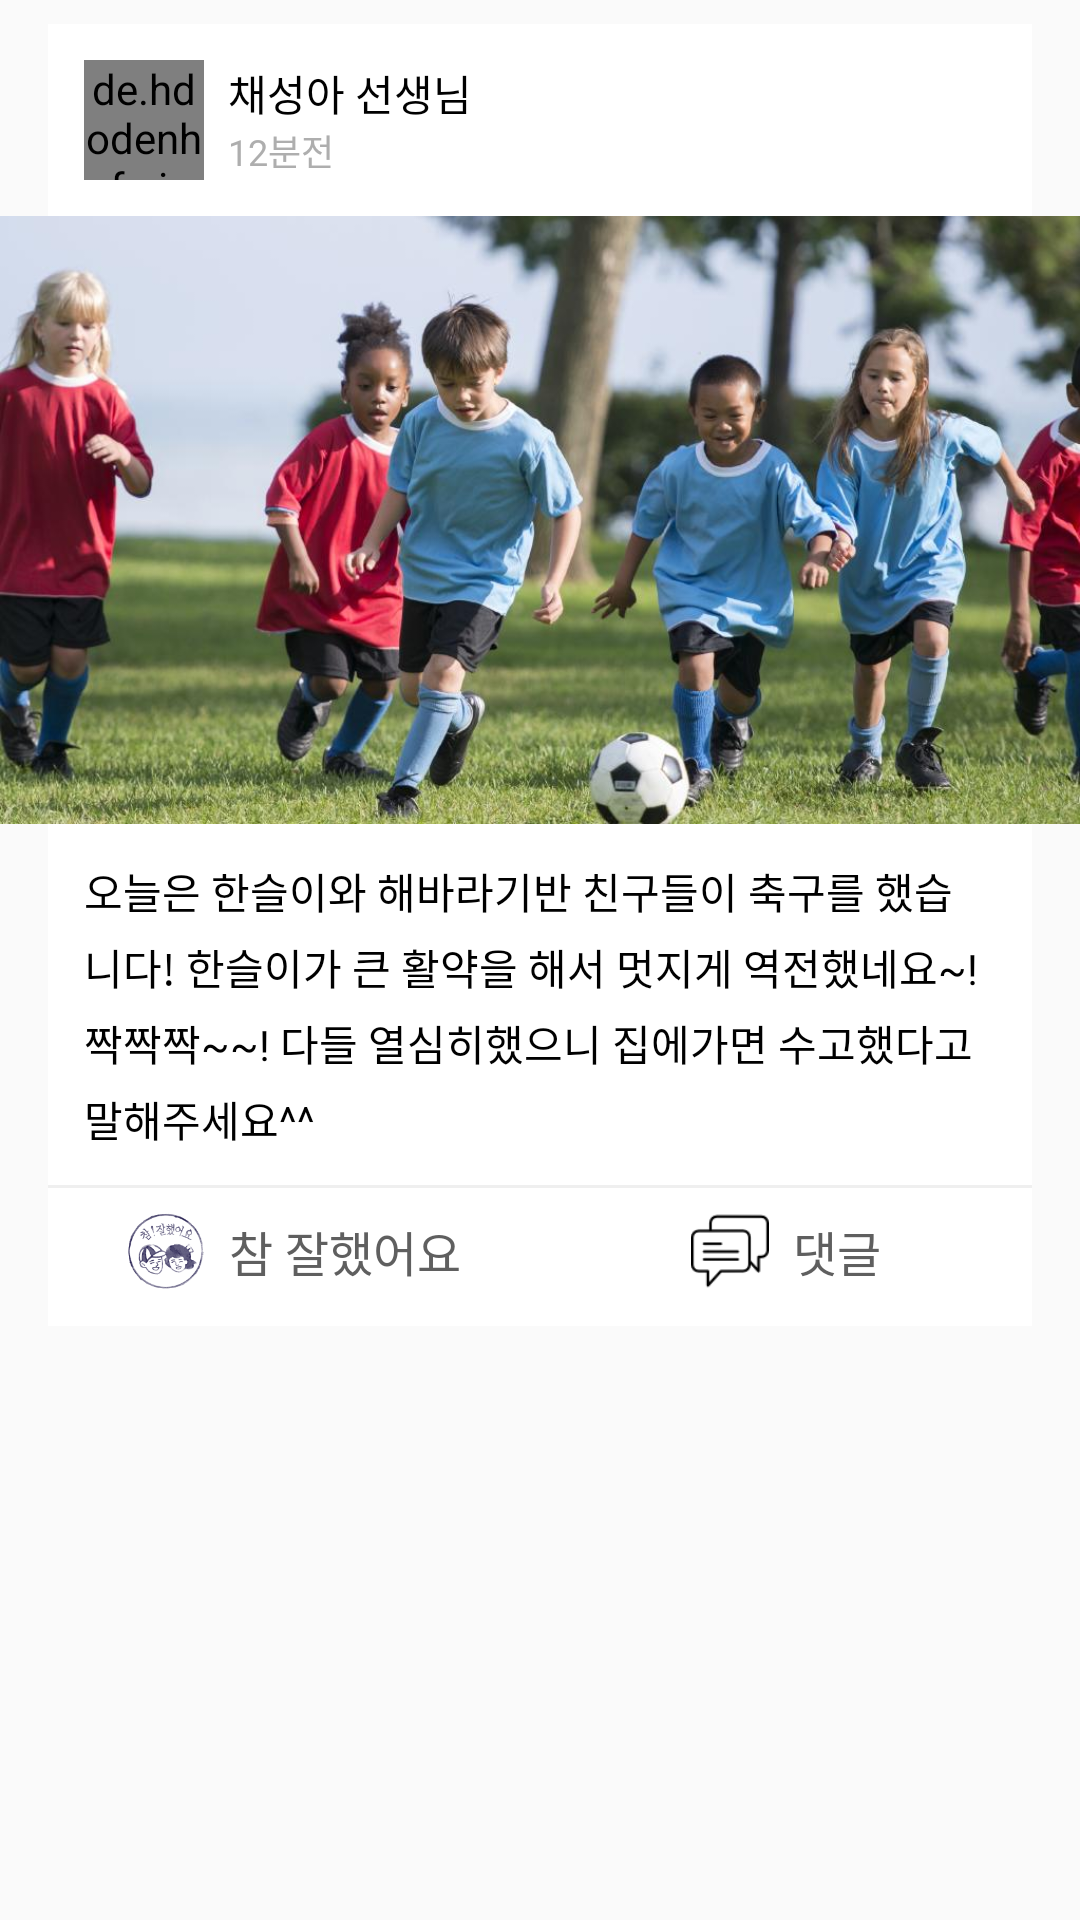

Icons on this 1080x1920 Android screen, each with the point to tap as [x,y]:
like: [166,1251]
